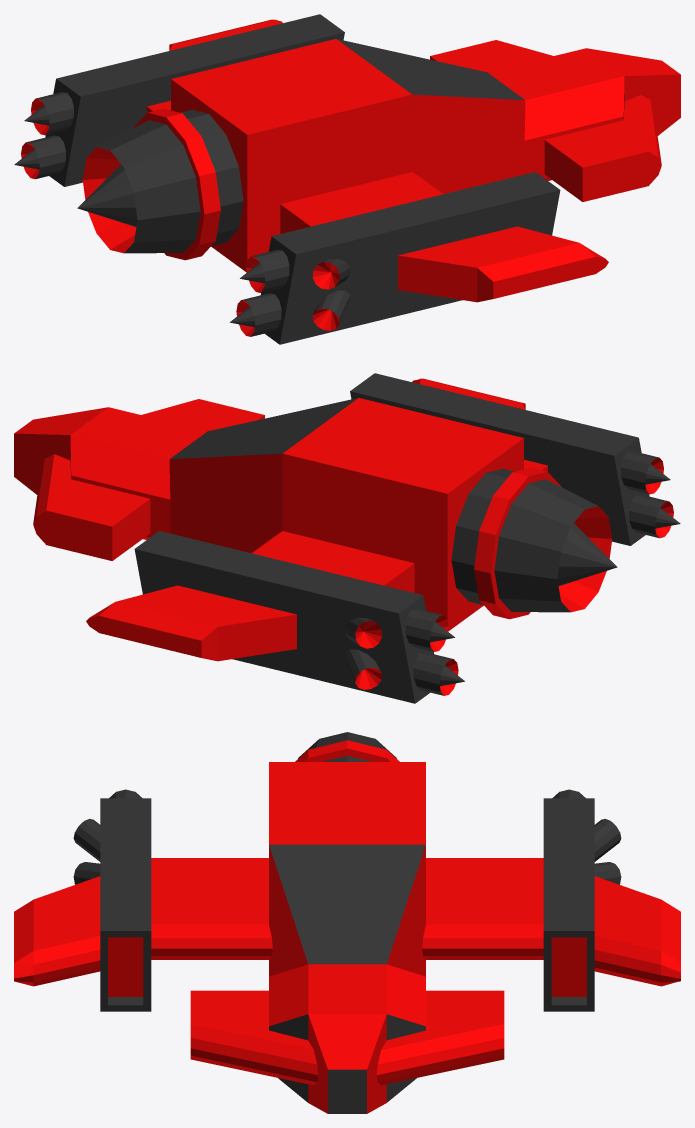
The model's file is Chroma Test Racer.fbx.
3 renders of one model, top to bottom at view 1: azimuth 30°, elevation 25°; view 2: azimuth 150°, elevation 25°; view 3: azimuth 270°, elevation 25°, orthographic. The views are drawn at different scales.
Visible parts, largest first — view 1: Prototype Racer; view 2: Prototype Racer; view 3: Prototype Racer.
Part boxes in pixels (left/top/right/bottom): Prototype Racer: left=14, top=14, right=680, bottom=344; Prototype Racer: left=14, top=373, right=680, bottom=703; Prototype Racer: left=14, top=732, right=680, bottom=1113.
Bounding box in the file's own units: 900 × 200 × 850.
